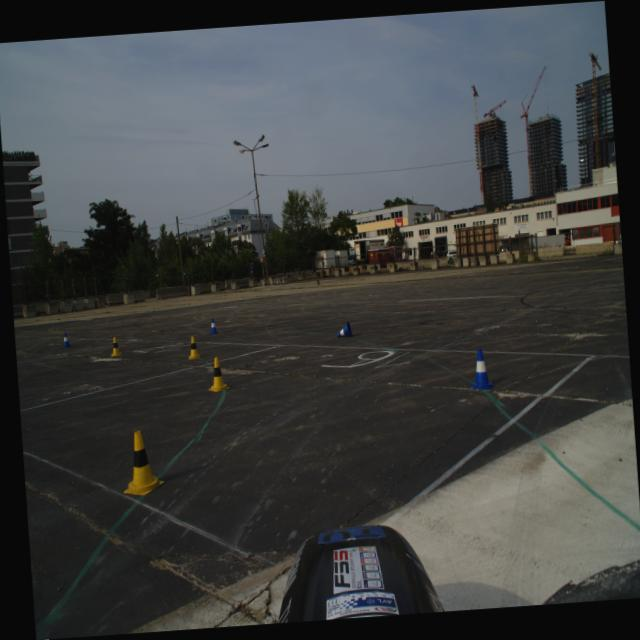blue_cone: (468, 347, 494, 391), (336, 322, 352, 338), (61, 332, 72, 348), (208, 317, 218, 333)
yellow_cone: (119, 429, 164, 496), (206, 356, 230, 392), (187, 335, 200, 359), (109, 336, 122, 356)
